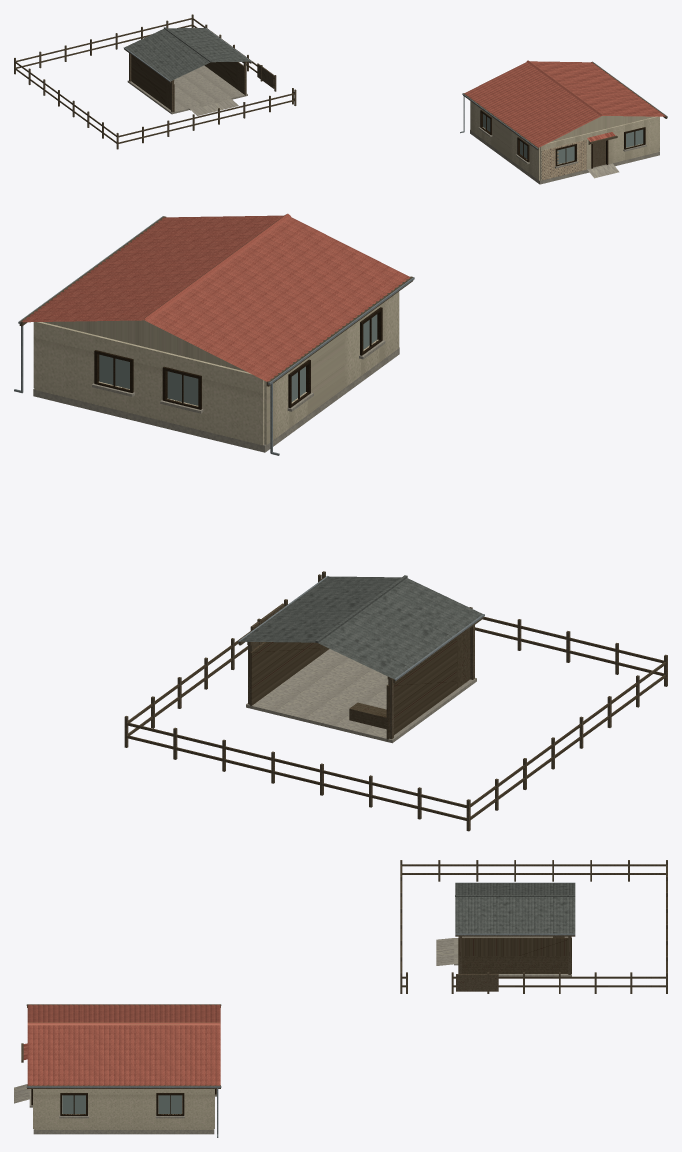
The picture shows the model from 3 angles, top to bottom: view 1: azimuth 30°, elevation 25°; view 2: azimuth 150°, elevation 25°; view 3: azimuth 270°, elevation 25°; orthographic projection. The views are drawn at different scales.
Visible parts, largest first — view 1: H15_TELHAS, H15_ABRIGO_RURAL_COBERTURA, H15_FACHADA, H15_CERCADO_TRAVESSAS, H15_ABRIGO_RURAL_BASE, H15_ABRIGO_RURAL_FECHAMENTO, H15_LATERAIS, H15_CERCADO_POSTES, H15_TIJOLOS_APARENTES, H15_OITOES, H15_VIDROS_RECUADOS, H15_FUNDACAO (+6 smaller); view 2: H15_TELHAS, H15_FUNDOS, H15_ABRIGO_RURAL_COBERTURA, H15_ABRIGO_RURAL_BASE, H15_ABRIGO_RURAL_FECHAMENTO, H15_CERCADO_TRAVESSAS, H15_LATERAIS, H15_CERCADO_POSTES, H15_OITOES, H15_FUNDACAO, H15_VIDROS_RECUADOS, H15_CAIXILHOS (+2 smaller); view 3: H15_TELHAS, H15_LATERAIS, H15_ABRIGO_RURAL_COBERTURA, H15_ABRIGO_RURAL_FECHAMENTO, H15_CERCADO_TRAVESSAS, H15_CERCADO_POSTES, H15_FUNDACAO, H15_VIDROS_RECUADOS, H15_BEIRAIS, H15_CUMEEIRA, H15_CERCADO_CANCELA_RECOLHIDA, H15_ABRIGO_RURAL_CALHA (+2 smaller).
Part boxes in pixels (<box>): H15_TELHAS: <box>464,61,665,147</box>; H15_ABRIGO_RURAL_COBERTURA: <box>125,28,250,80</box>; H15_FACHADA: <box>540,116,659,180</box>; H15_CERCADO_TRAVESSAS: <box>15,18,294,143</box>; H15_ABRIGO_RURAL_BASE: <box>127,65,247,114</box>; H15_ABRIGO_RURAL_FECHAMENTO: <box>131,55,245,112</box>; H15_LATERAIS: <box>470,101,659,180</box>; H15_CERCADO_POSTES: <box>14,14,296,149</box>; H15_TIJOLOS_APARENTES: <box>541,140,586,180</box>; H15_OITOES: <box>549,116,654,142</box>; H15_VIDROS_RECUADOS: <box>483,114,643,164</box>; H15_FUNDACAO: <box>470,130,659,184</box>; H15_TELHAS: <box>22,215,409,381</box>; H15_FUNDOS: <box>34,322,264,445</box>; H15_ABRIGO_RURAL_COBERTURA: <box>240,576,482,678</box>; H15_ABRIGO_RURAL_BASE: <box>246,649,476,743</box>; H15_ABRIGO_RURAL_FECHAMENTO: <box>249,628,470,740</box>; H15_CERCADO_TRAVESSAS: <box>127,578,665,820</box>; H15_LATERAIS: <box>33,291,399,444</box>; H15_CERCADO_POSTES: <box>124,571,667,831</box>; H15_OITOES: <box>43,320,246,371</box>; H15_FUNDACAO: <box>33,347,399,452</box>; H15_VIDROS_RECUADOS: <box>99,314,377,405</box>; H15_CAIXILHOS: <box>94,307,382,409</box>; H15_TELHAS: <box>27,1004,220,1085</box>; H15_LATERAIS: <box>35,1089,212,1129</box>; H15_ABRIGO_RURAL_COBERTURA: <box>455,883,575,933</box>; H15_ABRIGO_RURAL_FECHAMENTO: <box>458,937,571,973</box>; H15_CERCADO_TRAVESSAS: <box>400,864,667,987</box>; H15_CERCADO_POSTES: <box>400,860,667,993</box>; H15_FUNDACAO: <box>33,1095,214,1134</box>; H15_VIDROS_RECUADOS: <box>62,1095,181,1113</box>; H15_BEIRAIS: <box>27,1004,220,1088</box>; H15_CUMEEIRA: <box>27,1022,220,1025</box>; H15_CERCADO_CANCELA_RECOLHIDA: <box>456,974,498,991</box>; H15_ABRIGO_RURAL_CALHA: <box>455,882,575,935</box>.
Bounding box in the file's own units: 32.3 × 4.28 × 34.45.
Materials: 11 (10 with a texture image).
